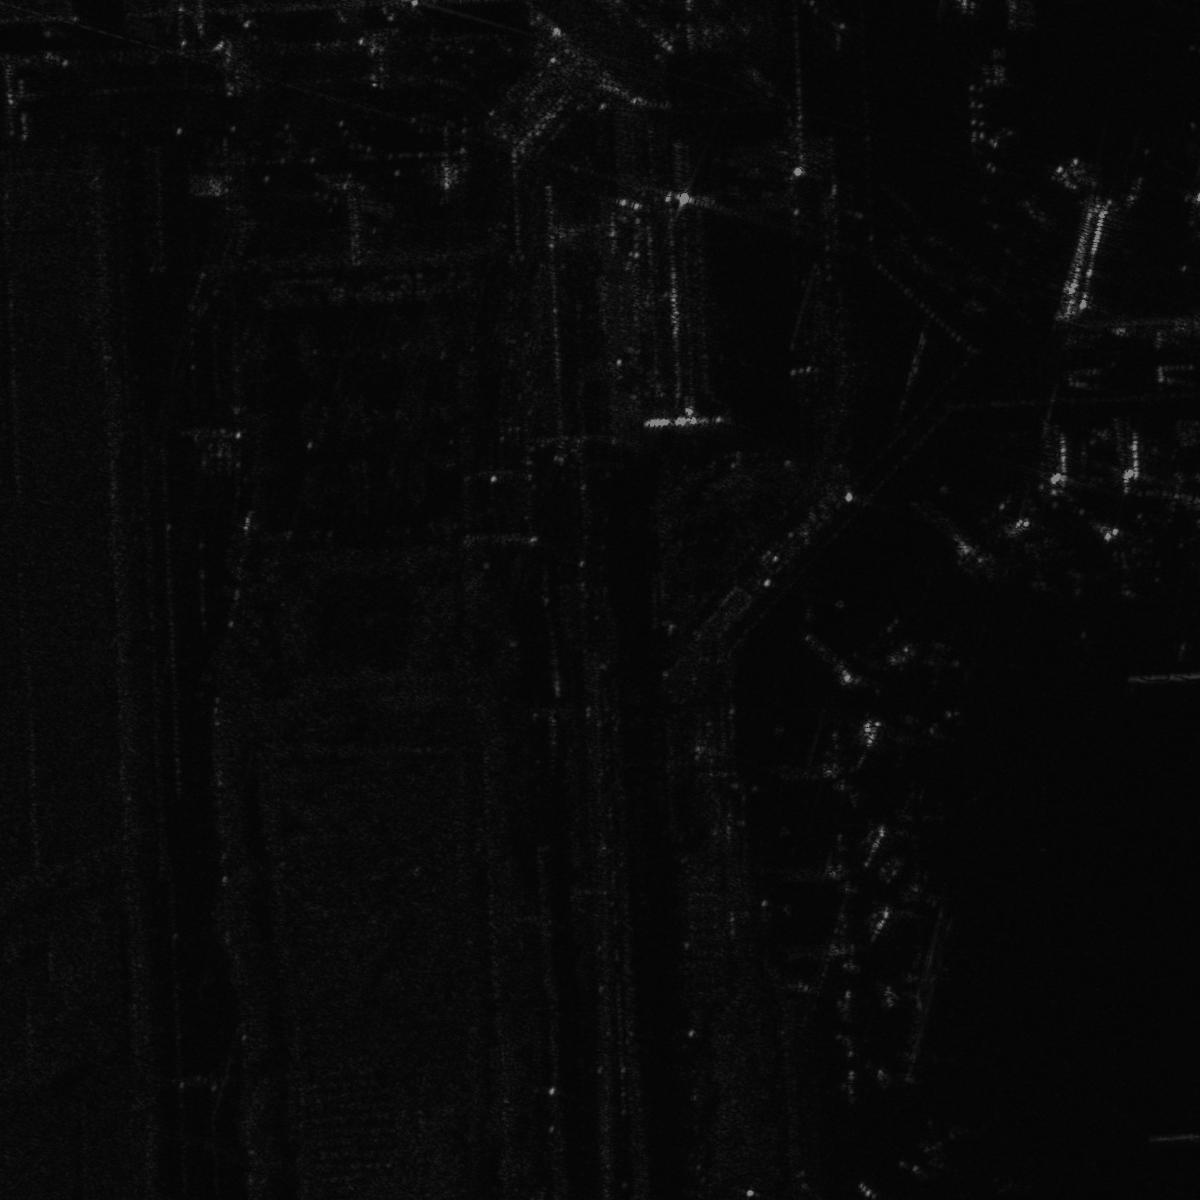A220: (895, 1113, 977, 1184)
